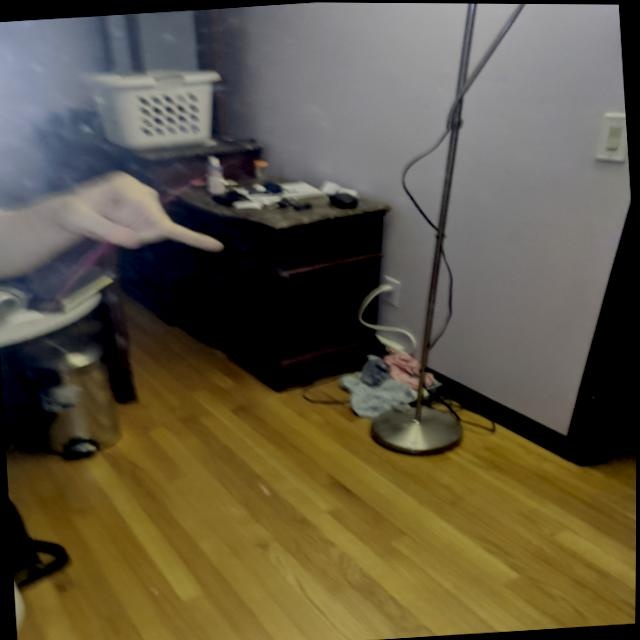J: (49, 155, 231, 270)
